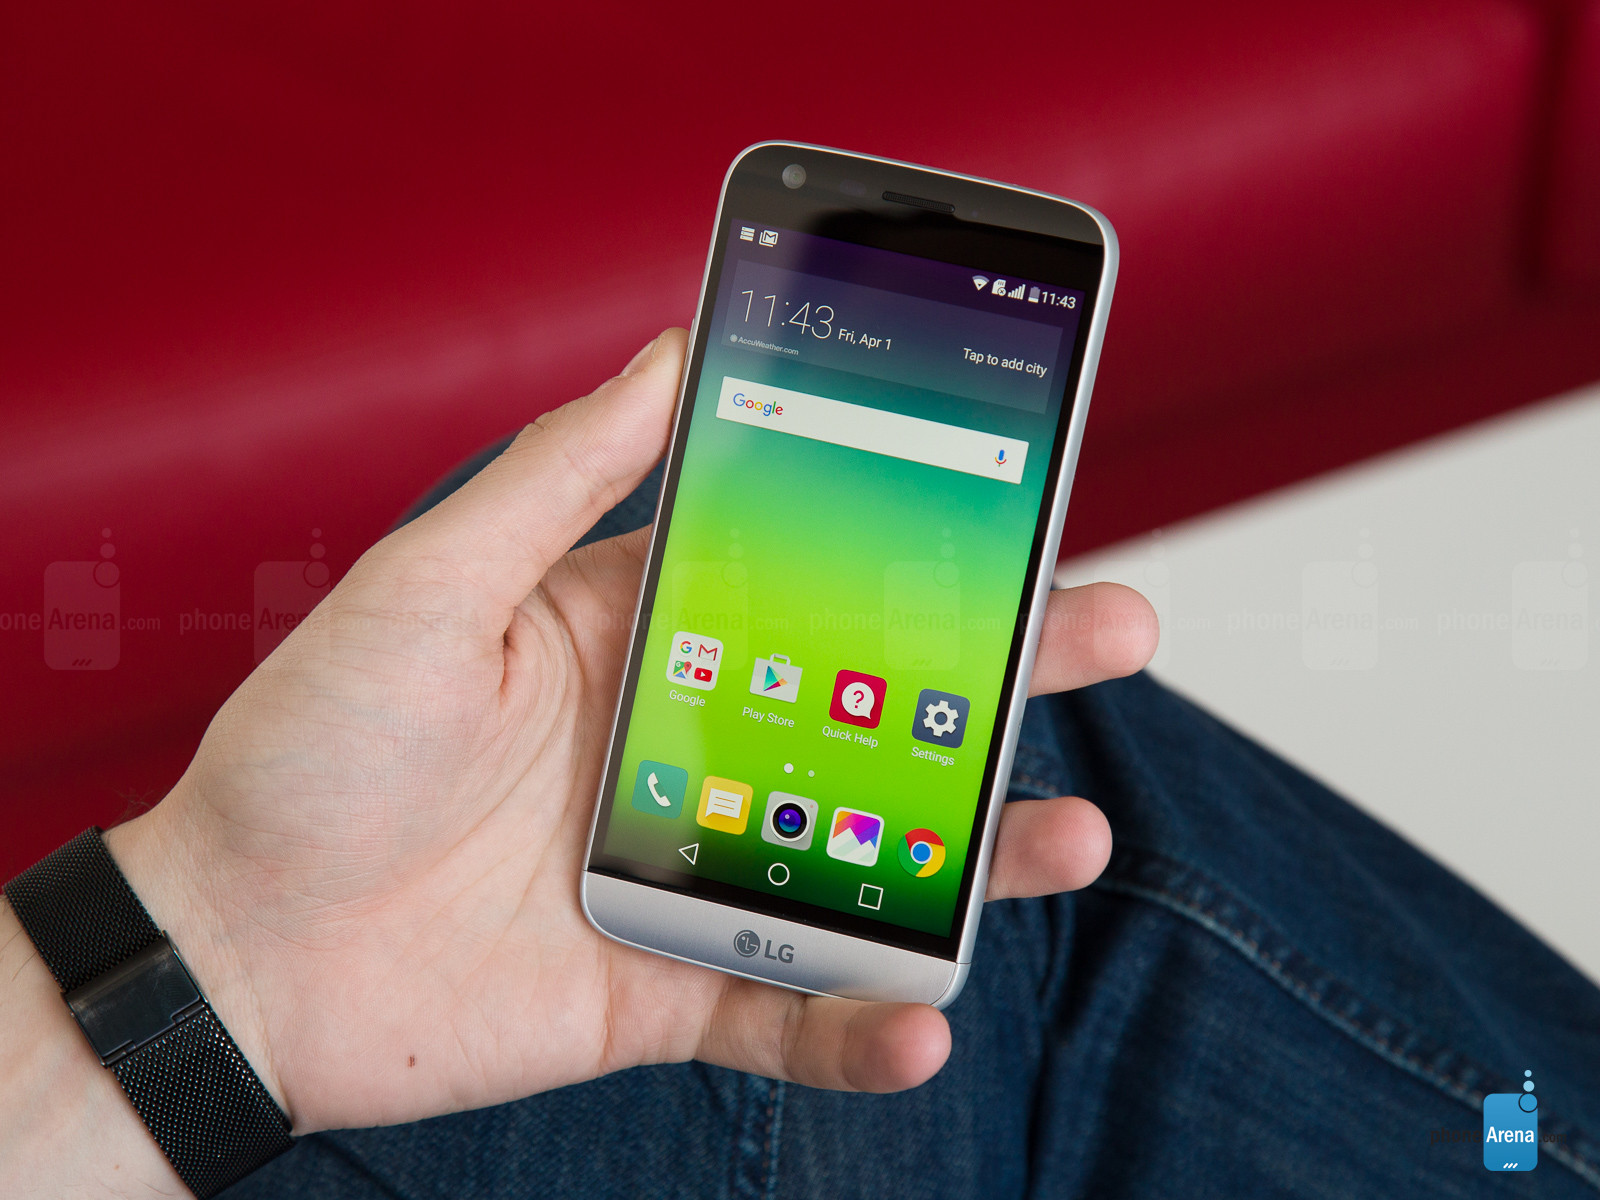smartphone: (580, 137, 1123, 1011)
